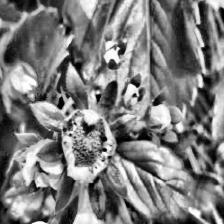Blossom Blight: (60, 110, 116, 182)
